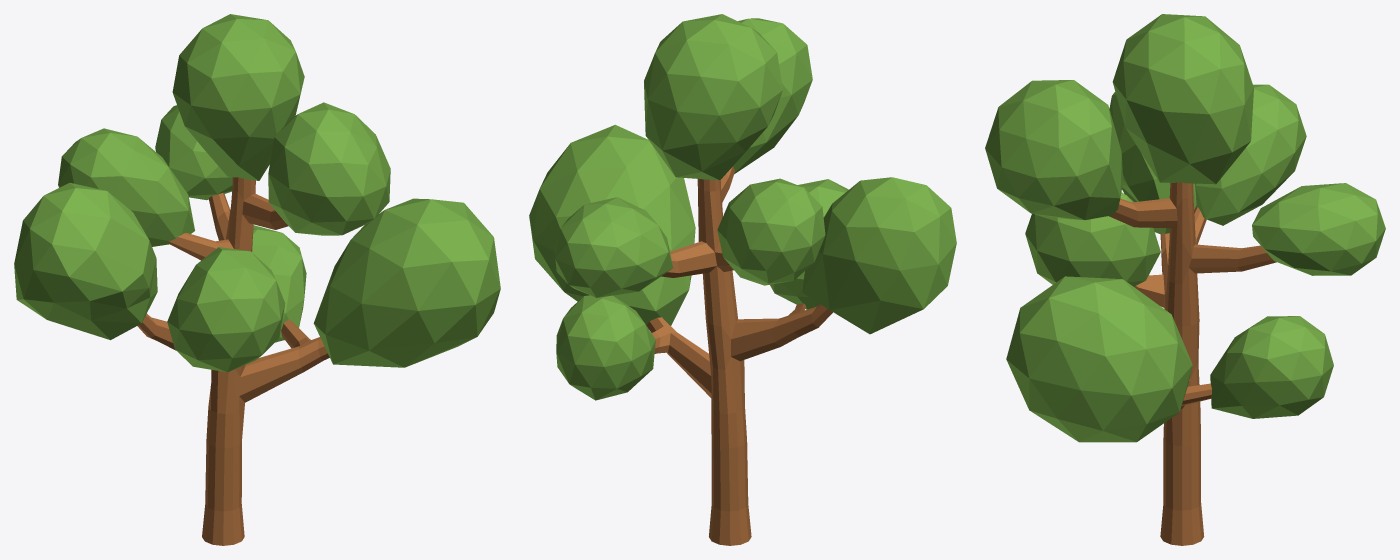
3 renders of one model, left to right at view 1: azimuth 30°, elevation 25°; view 2: azimuth 150°, elevation 25°; view 3: azimuth 270°, elevation 25°, orthographic. The views are drawn at different scales.
Parts seen in each view (by area): view 1: Icosphere, Cylinder; view 2: Icosphere, Cylinder; view 3: Icosphere, Cylinder.
Boxes of the visible parts, x1,y1,x2,y2 form: Icosphere: (14,14,500,372); Cylinder: (137,177,329,545); Icosphere: (529,14,956,400); Cylinder: (646,166,832,545); Icosphere: (985,14,1385,442); Cylinder: (1109,182,1276,545).
Size of the model in its own units: 14.8 by 16.73 by 11.54.
